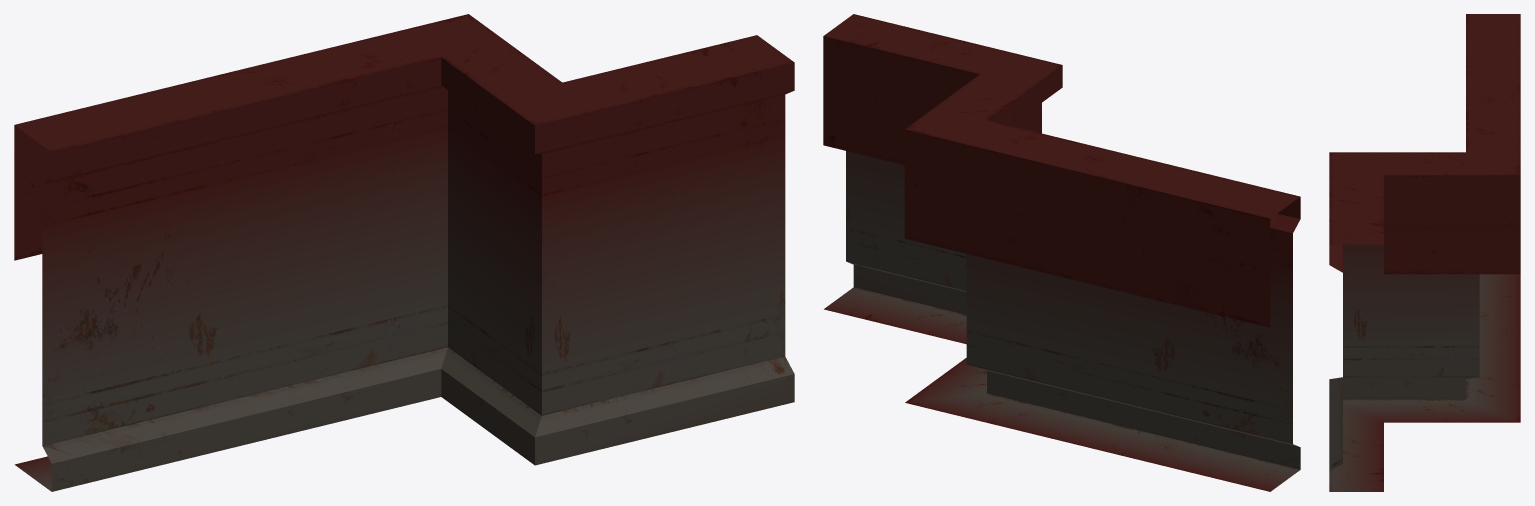
The model's file is cornice_metal_90_angle_r.glb.
3 views of the same model, side by side, from view 1: azimuth 30°, elevation 25°; view 2: azimuth 150°, elevation 25°; view 3: azimuth 270°, elevation 25° (orthographic). The views are drawn at different scales.
Parts seen in each view (by area): view 1: Cornice_Metal_90Angle_R; view 2: Cornice_Metal_90Angle_R; view 3: Cornice_Metal_90Angle_R.
Part boxes in pixels (box(x1,y1,x2,y2)): Cornice_Metal_90Angle_R: box(14, 14, 794, 491); Cornice_Metal_90Angle_R: box(823, 14, 1300, 491); Cornice_Metal_90Angle_R: box(1329, 14, 1520, 491).
Size of the model in its own units: 2 by 1 by 0.7.
1 material, 1 textured.
